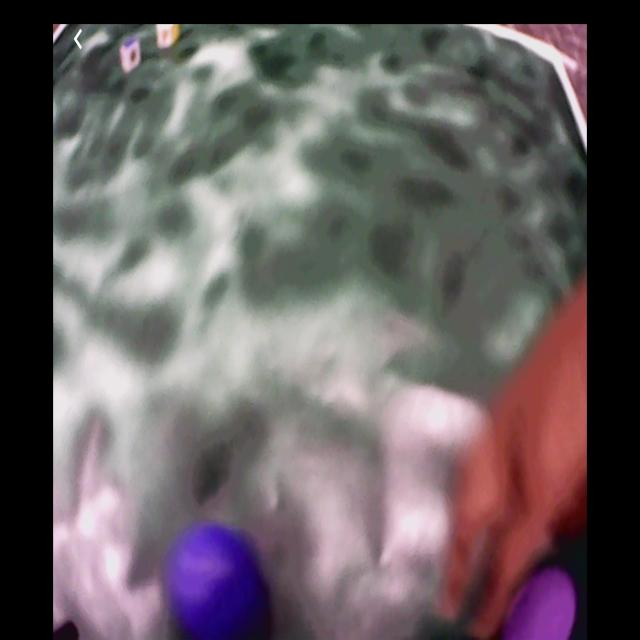ball: (168, 524, 268, 633), (504, 570, 577, 640)
